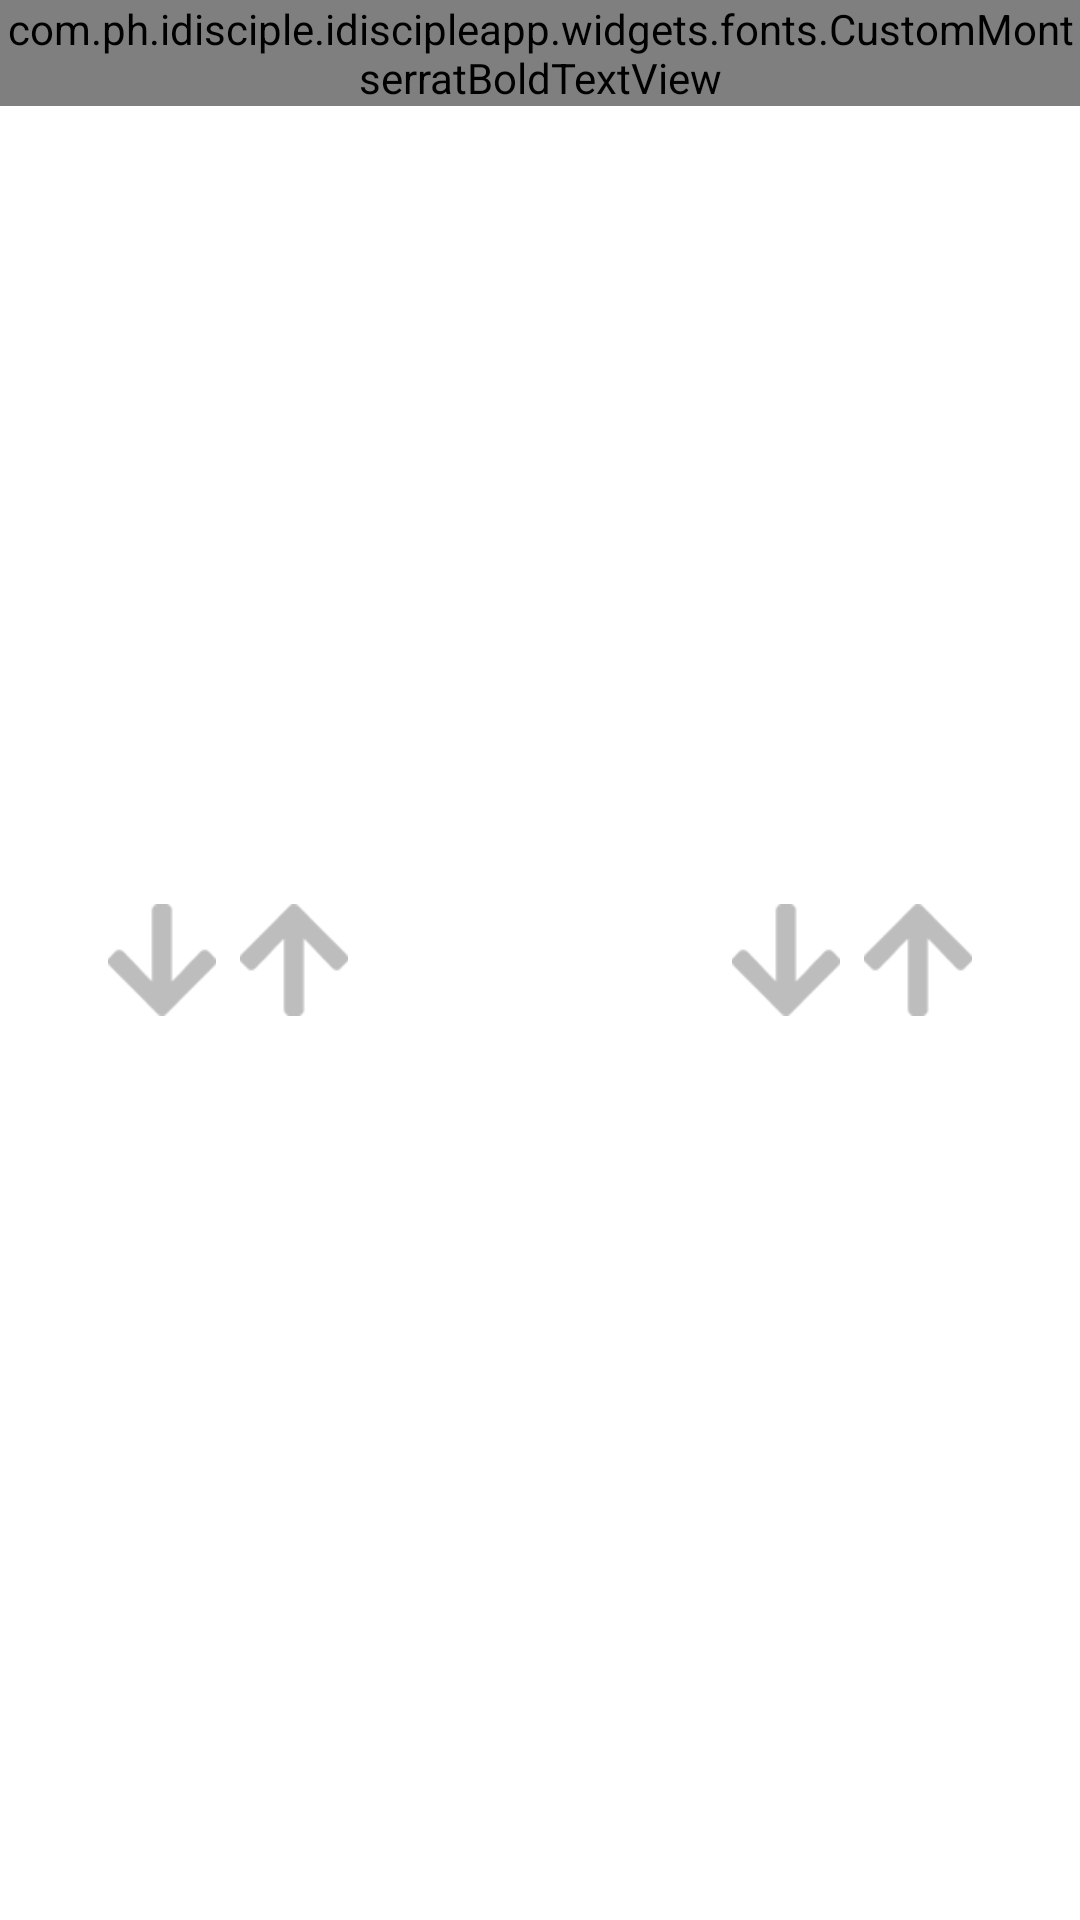

Where icons sit on this 1080x1920 app screen, as bbox=[x1, y1, x2, y2]:
arrow down: bbox=[108, 904, 216, 1016], bbox=[732, 904, 840, 1016]
arrow up: bbox=[240, 904, 348, 1016], bbox=[864, 904, 972, 1016]
